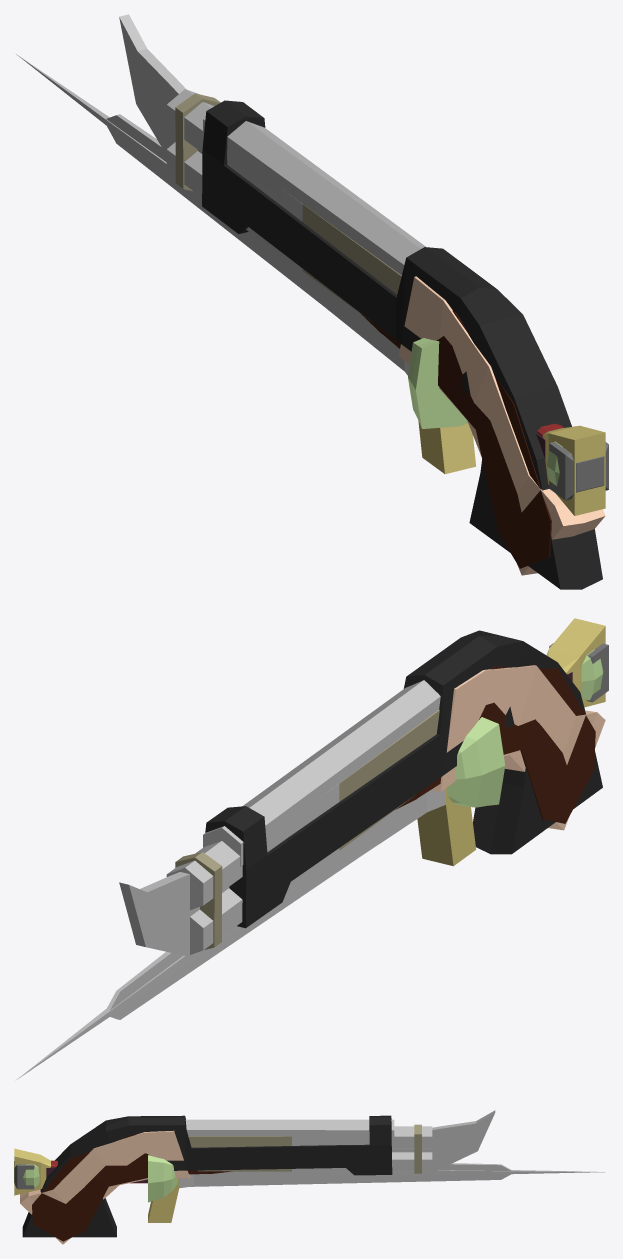
The model's file is weapons.fbx.
The picture shows the model from 3 angles, top to bottom: view 1: azimuth 30°, elevation 25°; view 2: azimuth 150°, elevation 25°; view 3: azimuth 270°, elevation 25°; orthographic projection. The views are drawn at different scales.
Visible parts, largest first — view 1: pistol2, pistol3, sword1, pisttol1, sword2, sword3; view 2: pistol2, pistol3, sword1, sword2, pisttol1, sword3; view 3: pistol2, pistol3, sword1, pisttol1, sword2, sword3.
Boxes of the visible parts, x1,y1,x2,y2 form: pistol2: (202,100,602,589); pistol3: (166,89,605,575); sword1: (119,14,605,515); pisttol1: (360,310,551,568); sword2: (16,54,562,485); sword3: (106,114,608,500); pistol2: (203,630,602,928); pistol3: (166,665,605,954); sword1: (119,618,605,959); sword2: (16,649,603,1079); pisttol1: (396,666,595,823); sword3: (106,643,608,1019); pistol2: (22,1115,394,1237); pistol3: (20,1124,432,1244); sword1: (14,1110,495,1222); pisttol1: (32,1134,232,1241); sword2: (23,1155,604,1202); sword3: (14,1161,511,1189).
Size of the model in its own units: 31.6 by 84.44 by 352.
